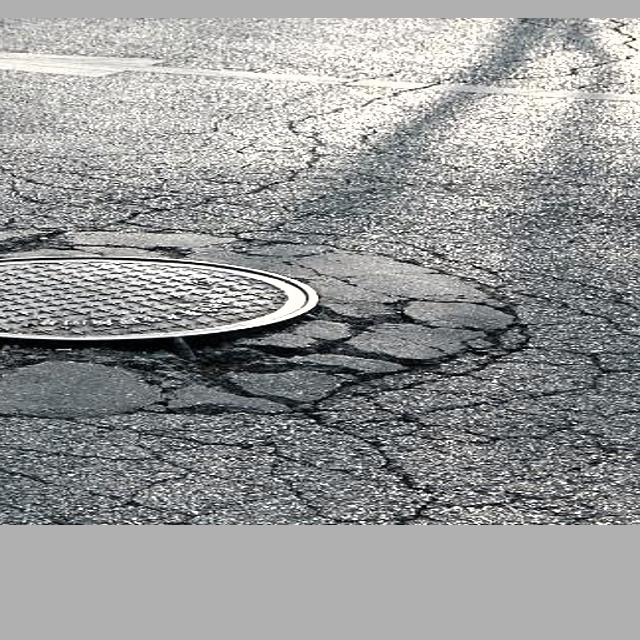circle: (0, 205, 535, 440)
